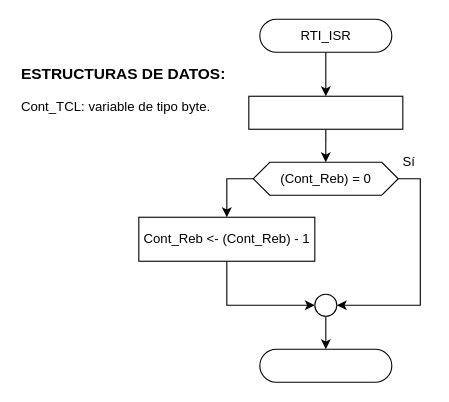
This 449x402 diagram has some shape labels left out. The centre of each missing label's shape, as x and y in pixels:
"CRGFLG.7 <- 1" goes at [325,112].
"RETORNAR" goes at [325,365].
